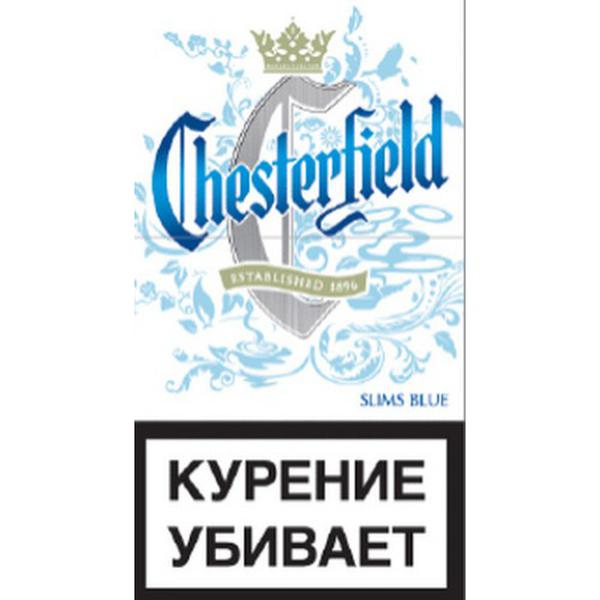chesterfield_blue: (132, 1, 465, 599)
